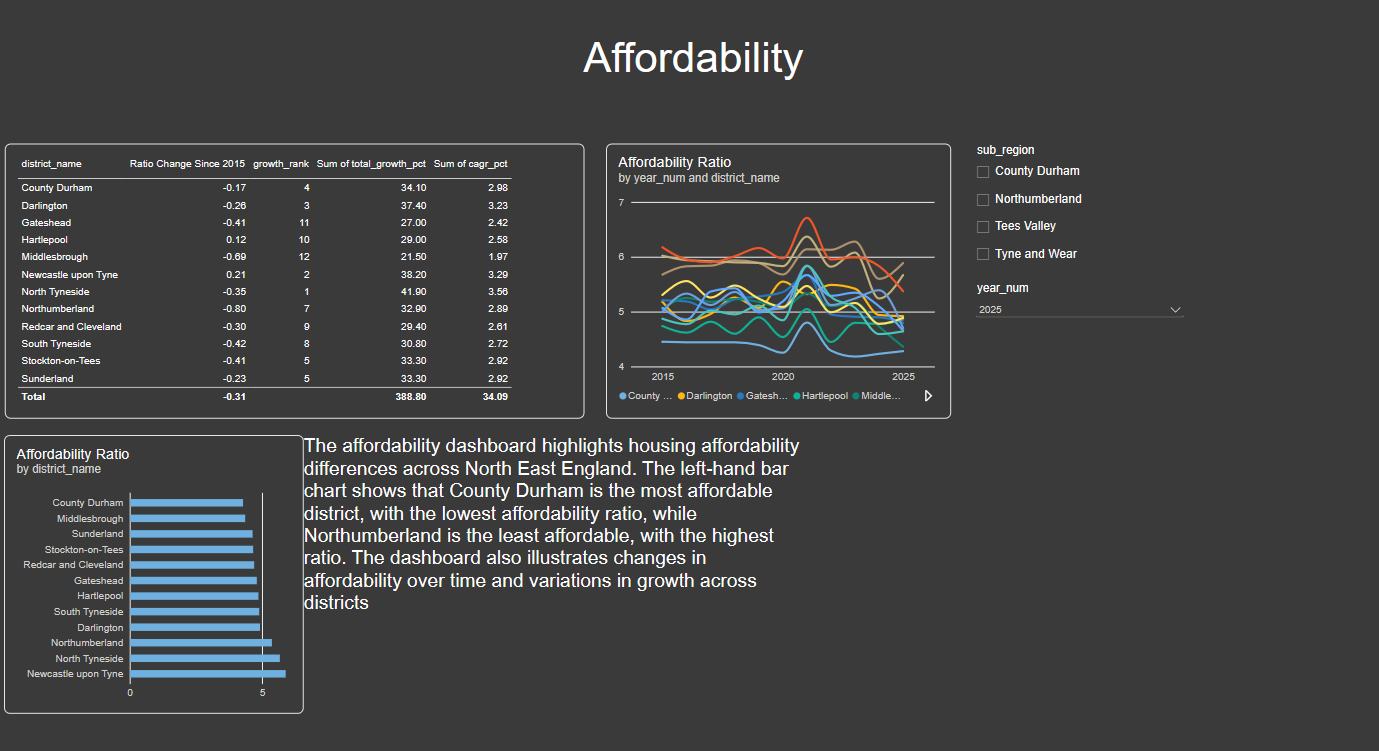

Layout of this report page (visuals, bound fields, positions):
{"tool":"powerbi","page":{"name":"Affordability","canvas":[1920,1080],"ordinal":1},"visuals":[{"type":"textbox","box":[10.6,75.8,1910,204.8],"z":0},{"type":"slicer","fields":{"Values":["dw dim_date.year_num"]},"box":[1351.3,420.3,300.6,179.6],"z":1},{"type":"slicer","fields":{"Values":["dw dim_location.sub_region"]},"box":[1351.3,228.8,312.6,179.6],"z":2},{"type":"clusteredBarChart","fields":{"Category":["dw dim_location.district_name"],"Y":["_Measures.Affordability Ratio"]},"box":[10.6,633.1,415,385.7],"z":3},{"type":"lineChart","fields":{"Category":["dw dim_date.year_num"],"Series":["dw dim_location.district_name"],"Y":["_Measures.Affordability Ratio"]},"box":[844.6,228.8,478.8,381.7],"z":4},{"type":"tableEx","fields":{"Values":["dw dim_location.district_name","_Measures.Ratio Change Since 2015","dw v_district_growth_rank.growth_rank","Sum(dw v_district_growth_rank.total_growth_pct)","Sum(dw v_district_growth_rank.cagr_pct)"]},"box":[12,228.8,803.3,381.7],"z":5},{"type":"textbox","box":[425.6,633.1,690.3,254],"z":6}]}

Visuals, with their boxes on the page's 1920x1080 design canvas (x1, y1, x2, y2). These are canvas units, not pixel positions in the 1379x751 screenshot, which may show the page scaled, cropped or inside an application window:
textbox: x1=11, y1=76, x2=1921, y2=281
slicer - dw dim_date.year_num: x1=1351, y1=420, x2=1652, y2=600
slicer - dw dim_location.sub_region: x1=1351, y1=229, x2=1664, y2=408
clusteredBarChart - dw dim_location.district_name x _Measures.Affordability Ratio: x1=11, y1=633, x2=426, y2=1019
lineChart - dw dim_date.year_num x dw dim_location.district_name: x1=845, y1=229, x2=1323, y2=610
tableEx - dw dim_location.district_name x _Measures.Ratio Change Since 2015: x1=12, y1=229, x2=815, y2=610
textbox: x1=426, y1=633, x2=1116, y2=887
